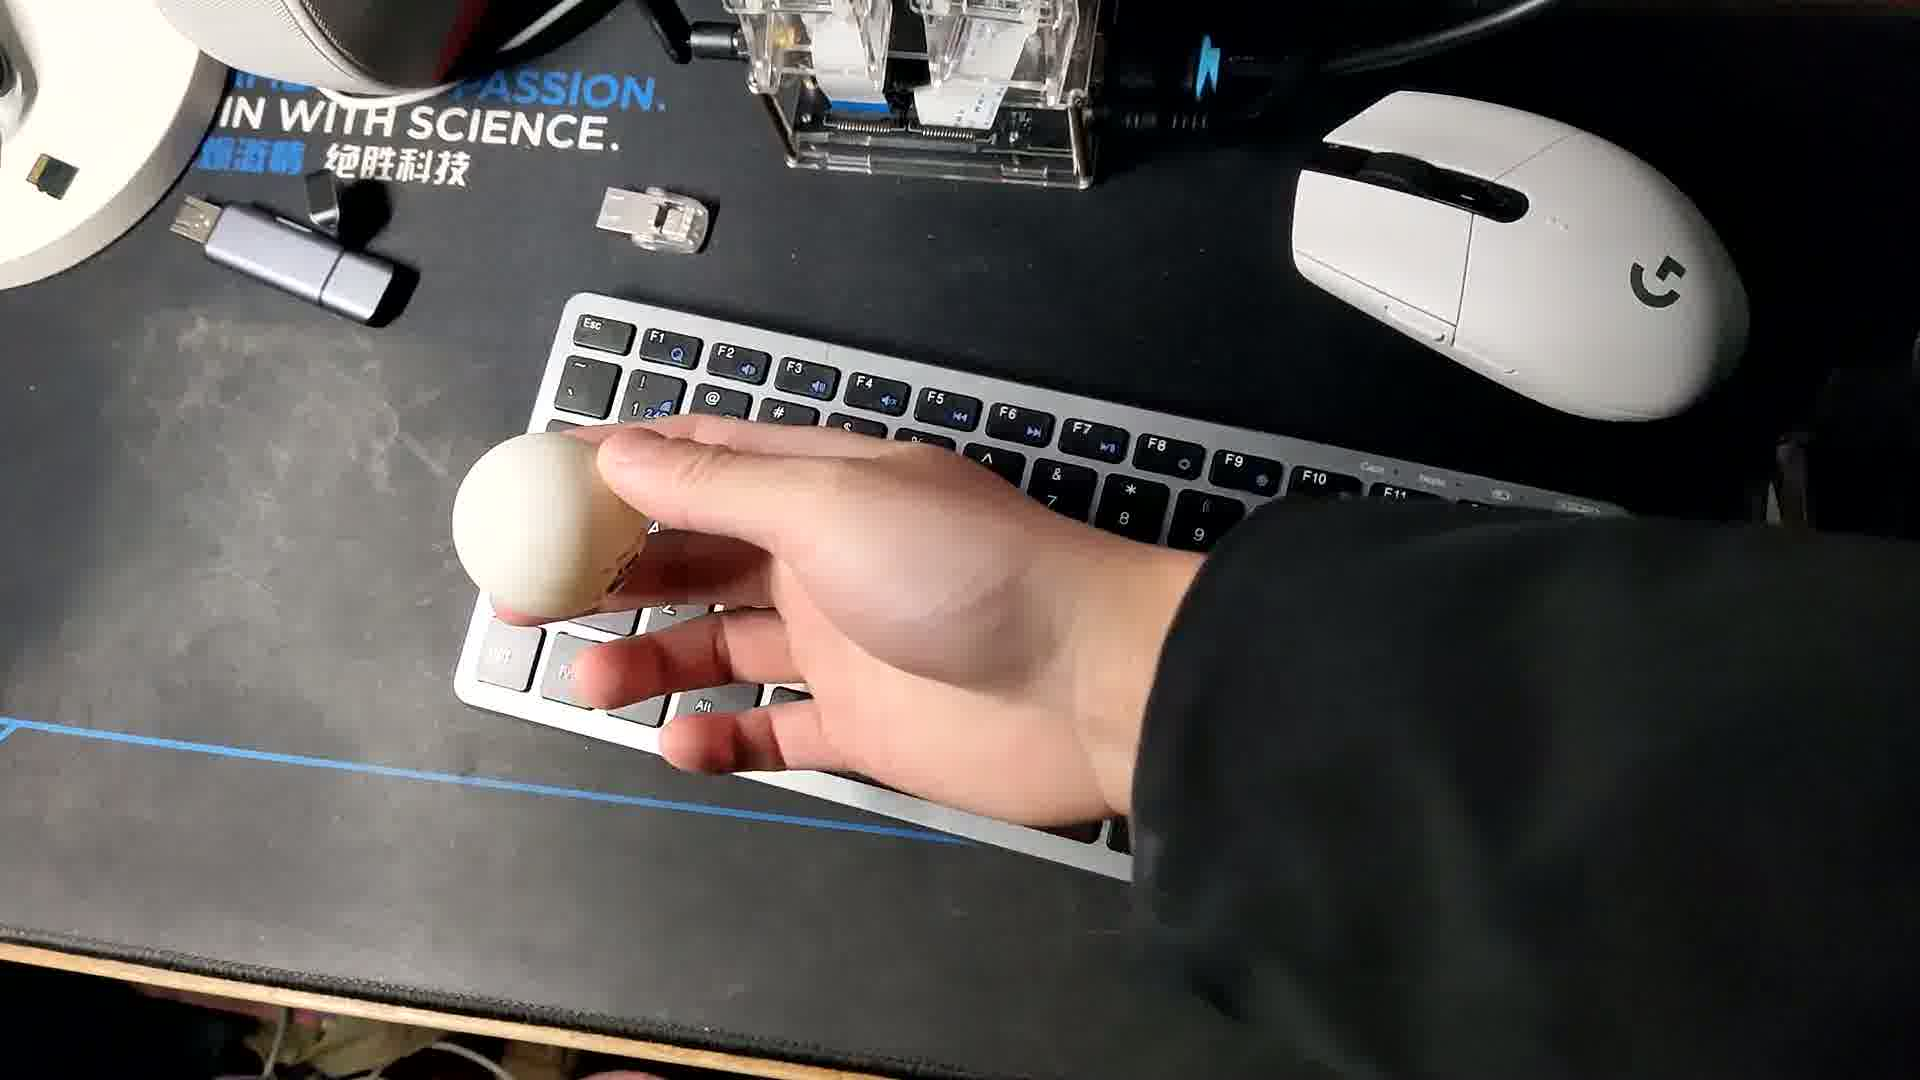Ball: (450, 433, 644, 615)
